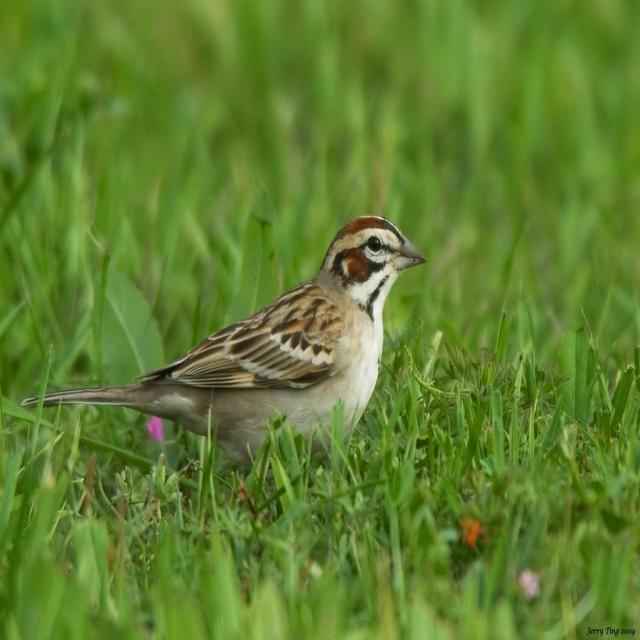bird: (22, 209, 433, 469)
